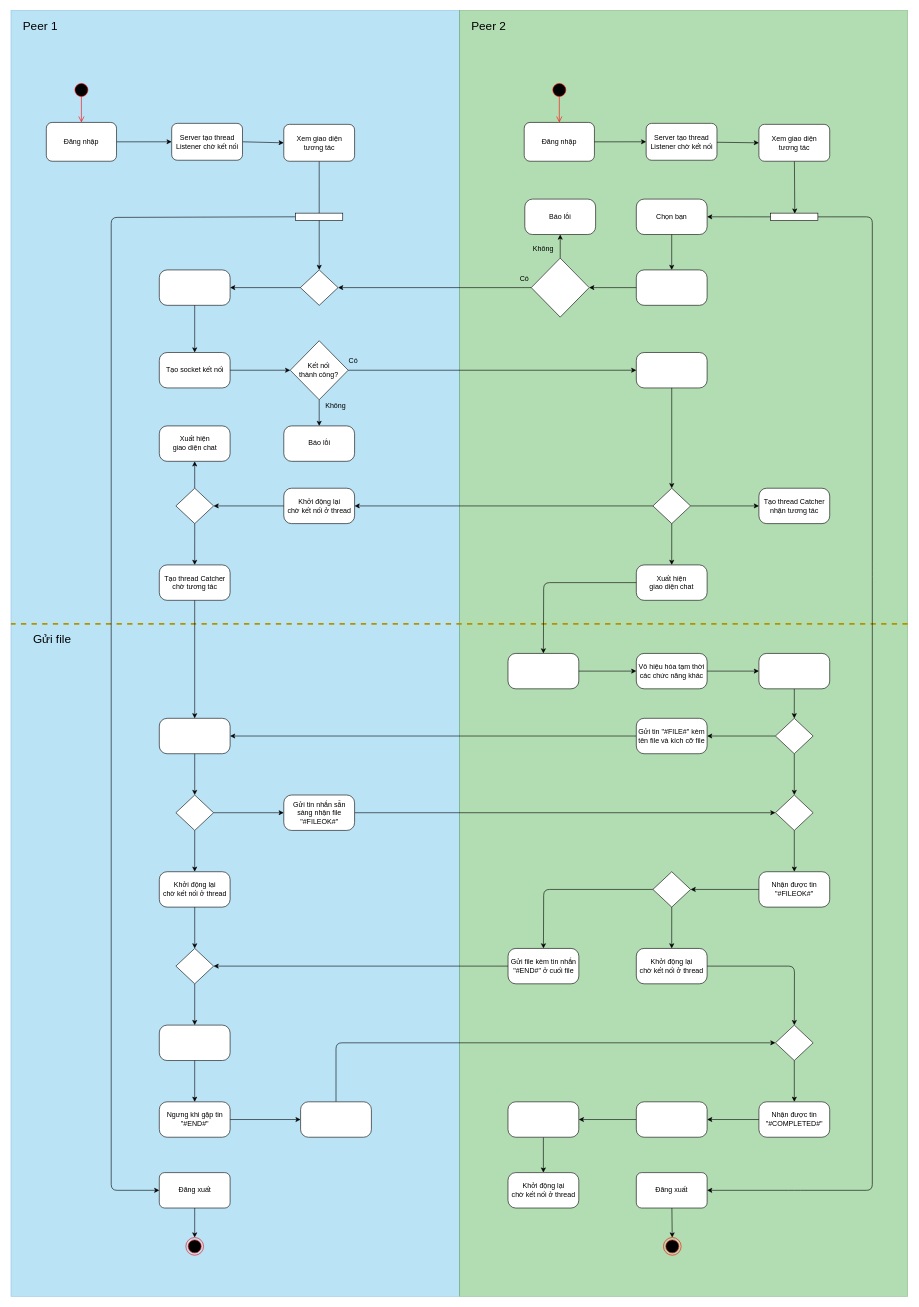
Some shapes in this 919 by 1307 pixel diagram are drawn without their labels. Each missing label, with the box of its shape:
Gửi tin xác nhận "#COMPLETED#": (300, 1101, 371, 1137)
Gửi tín hiệu "#CHAT#", chờ kết nối socket: (636, 269, 707, 305)
Khởi động lại các chức năng khác: (636, 1101, 707, 1137)
Người dùng nhập vào đường dẫn file: (507, 653, 579, 689)
Nhận tín hiệu "#CHAT#": (159, 269, 230, 305)
Nhận được phản hồi, kết nối socket: (636, 352, 707, 388)
Nhận được thông tin với header "#FILE#": (159, 718, 230, 754)
Peer phản hồi?: (531, 258, 589, 317)
Tạo thread DataLink để tương tác với file: (758, 653, 830, 689)
Viết file bằng cách chia file thành nhiều gói tin nhỏ: (159, 1025, 230, 1061)
Đóng và thoát khỏi thread Datalink: (507, 1101, 579, 1137)
